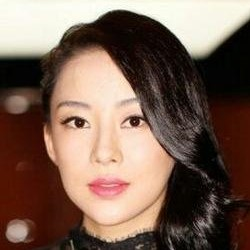unmask: (44, 82, 183, 224)
